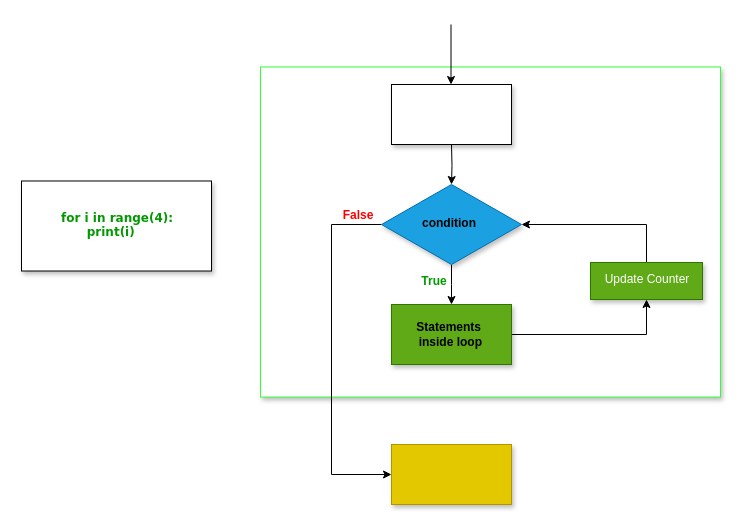
Some shapes in this 744 by 529 pixel diagram are drawn without their labels. Here are the shapes that lost their labels. From the top down, the centre of each, then its label:
At (x=452, y=116): "initialization".
At (x=452, y=476): "Statements after for loop".
